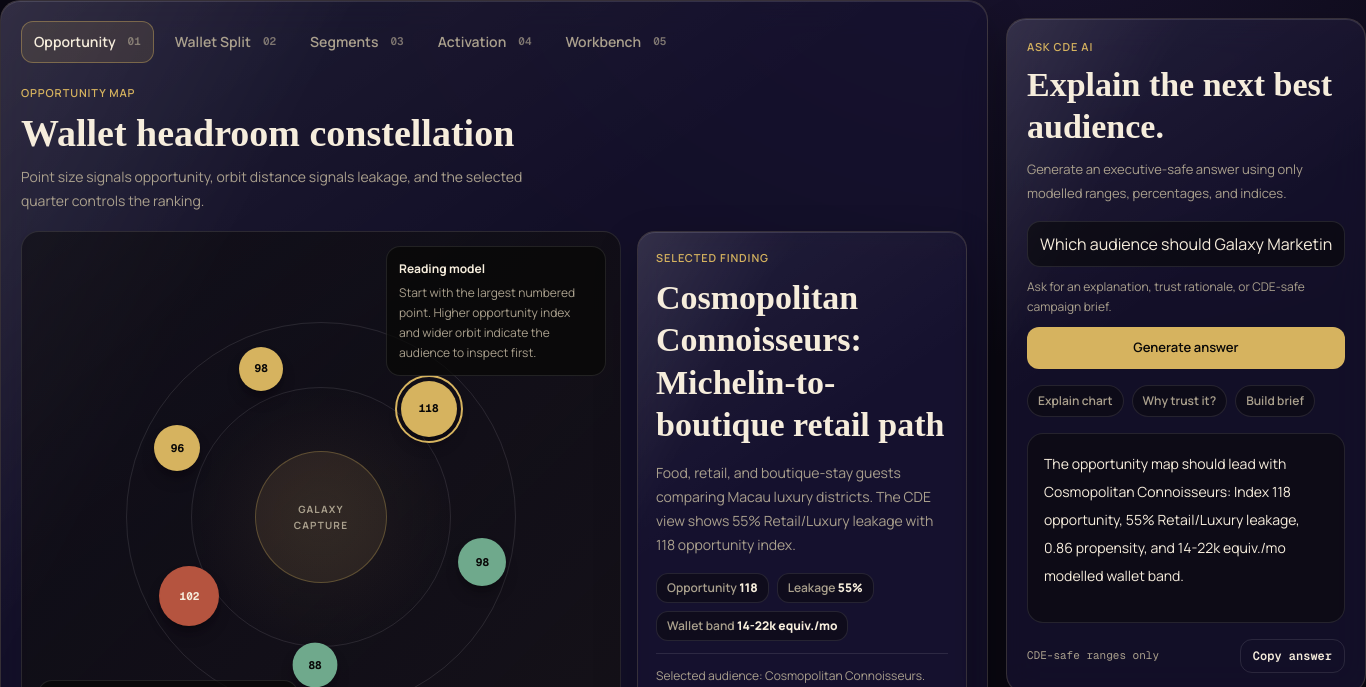
DecisionWorkspace › filters segment priority board and announces the live status
Click the tab "Segments 03": x=357, y=42 x1=297 y1=21 x2=417 y2=63
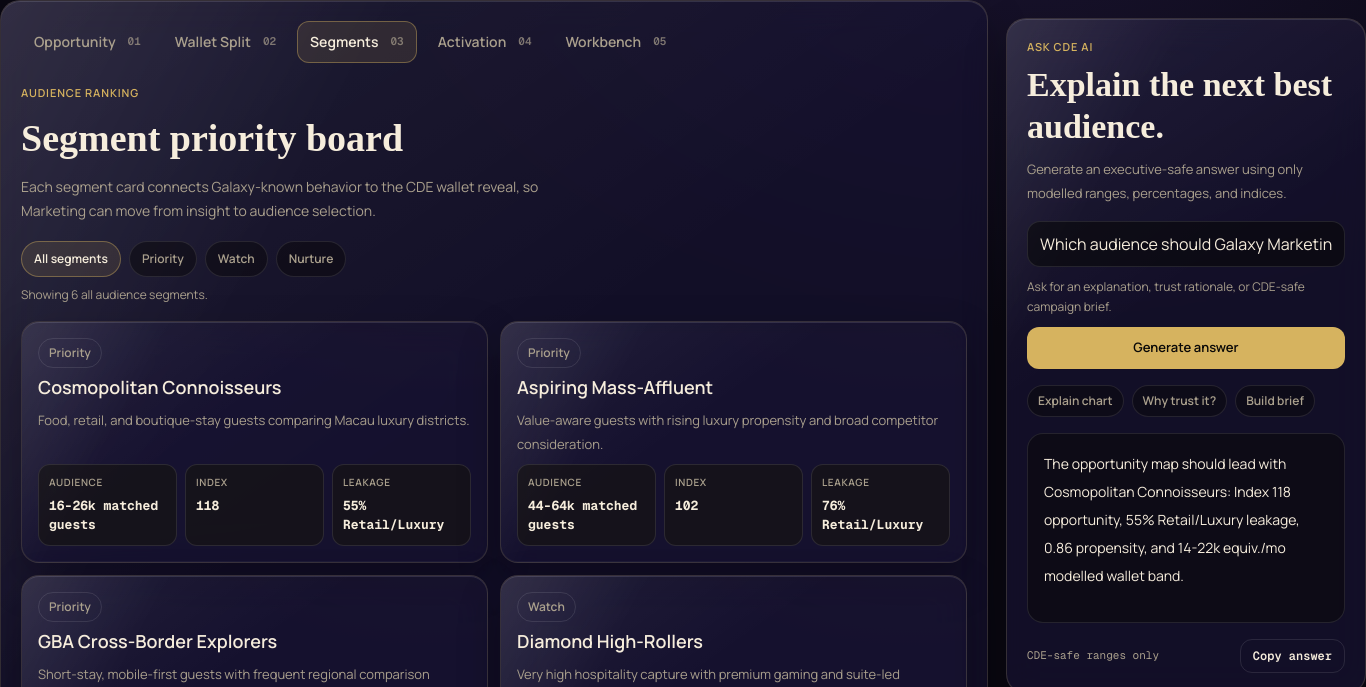
Click the button "Watch": x=236, y=258 x1=205 y1=240 x2=268 y2=276
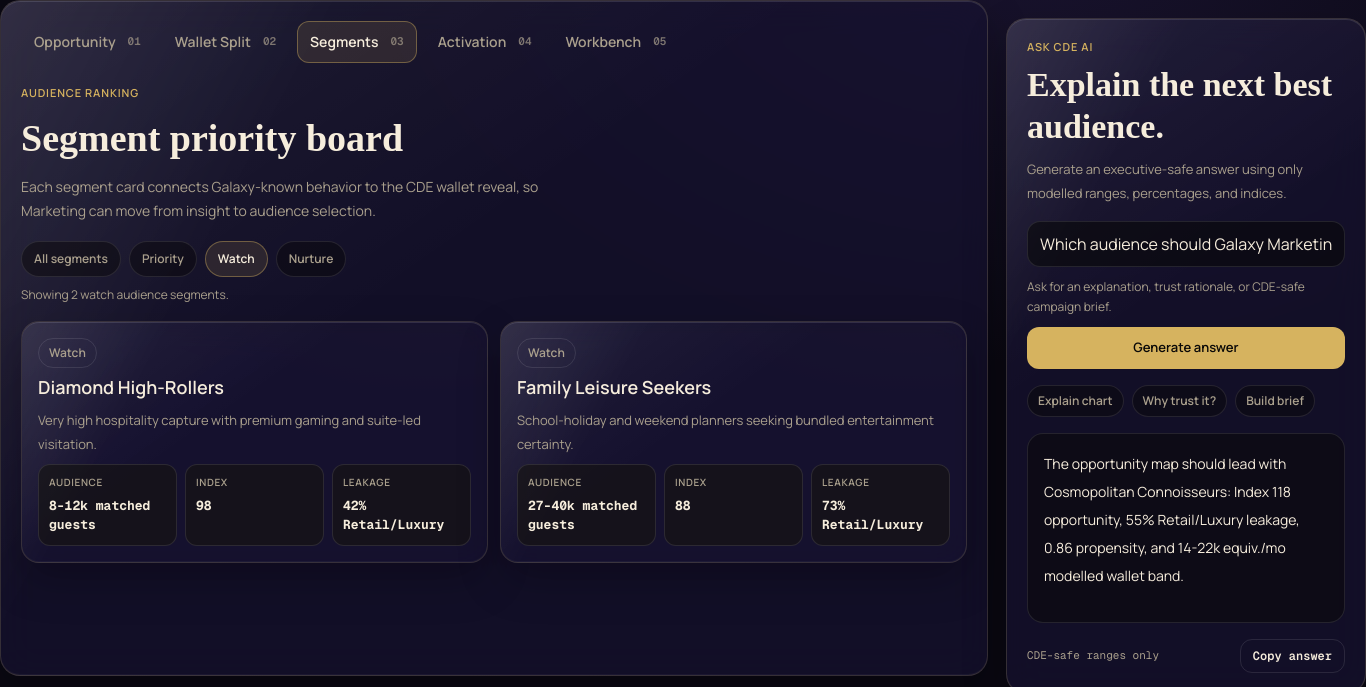
Check: the message named "Segment filter status" shows "watch audience", box x1=21 y1=286 x2=229 y2=302
